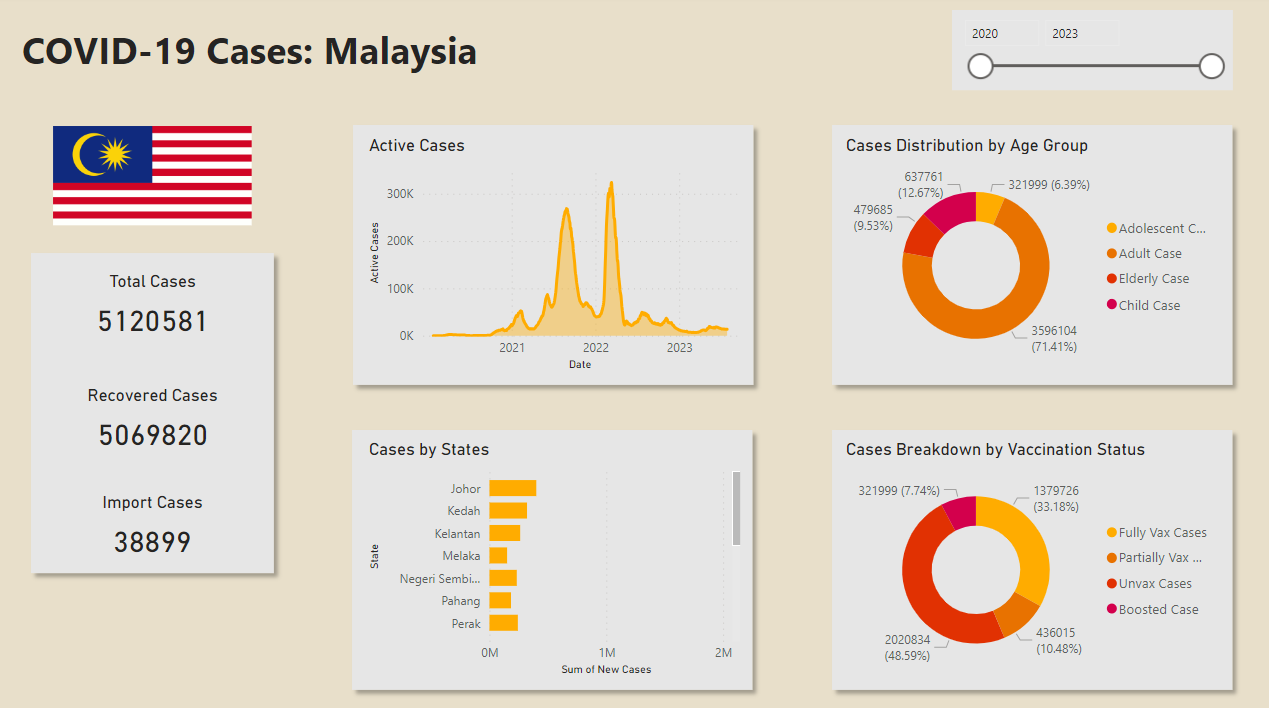

The dashboard page shown, as its layout file describes it:
{"tool":"powerbi","page":{"name":"Page 1","canvas":[1280,720],"ordinal":0},"visuals":[{"type":"shape","box":[827.4,423.7,416.7,277.1],"z":0},{"type":"shape","box":[348.9,423.7,416.7,277.1],"z":1000},{"type":"shape","box":[827.4,119.6,416.7,277.1],"z":2000},{"type":"shape","box":[349.9,119.6,416.7,277.1],"z":3000},{"type":"shape","box":[28.9,247.2,260.2,336.9],"z":4000},{"type":"slicer","title":"Year","fields":{"Values":["covid-cases.date.Variation.Date Hierarchy.Year"]},"box":[956,14,280.1,79.8],"z":5000},{"type":"card","title":"Total Cases","fields":{"Values":["Sum(covid-cases.cases_new)"]},"box":[37.9,274.1,242.2,73.8],"z":6000},{"type":"card","title":"Recovered Cases","fields":{"Values":["Sum(covid-cases.cases_recovered)"]},"box":[37.9,387.8,242.2,74.8],"z":7000},{"type":"areaChart","title":"Active Cases","fields":{"Y":["covid-cases.Active Case"],"Category":["covid-cases.date.Variation.Date Hierarchy.Year","covid-cases.date.Variation.Date Hierarchy.Quarter","covid-cases.date.Variation.Date Hierarchy.Month","covid-cases.date.Variation.Date Hierarchy.Day"]},"box":[369.8,138.6,379.8,239.3],"z":8000},{"type":"donutChart","title":"Cases Breakdown by Vaccination Status","fields":{"Y":["covid-cases.Fully Vax Cases","covid-cases.Partially Vax Cases","covid-cases.Unvax Cases","covid-cases.Boosted Case"]},"box":[845.4,441.6,379.8,240.2],"z":9000},{"type":"clusteredBarChart","title":"Cases by States","fields":{"Category":["covid-cases.State"],"Y":["Sum(covid-cases.New Cases)"]},"box":[369.8,441.6,379.8,240.2],"z":10000},{"type":"donutChart","title":"Cases Distribution by Age Group","fields":{"Y":["covid-cases.Adolescent Case","covid-cases.Adult Case","covid-cases.Elderly Case","covid-cases.Child Case"]},"box":[845.4,138.6,379.8,239.3],"z":11000},{"type":"card","title":"Import Cases","fields":{"Values":["Sum(covid-cases.cases_import)"]},"box":[37.9,494.5,242.2,74.8],"z":12000},{"type":"textbox","box":[23.9,22.9,484.5,61.8],"z":13000},{"type":"image","box":[41.9,124.6,234.3,108.7],"z":14000}]}

Visuals, with their boxes in screenshot pixels (x1, y1, x2, y2), scaled from the page's 1280x720 canvas onto the 1269x708 screenshot:
shape: {"left": 820, "top": 417, "right": 1233, "bottom": 689}
shape: {"left": 346, "top": 417, "right": 759, "bottom": 689}
shape: {"left": 820, "top": 118, "right": 1233, "bottom": 390}
shape: {"left": 347, "top": 118, "right": 760, "bottom": 390}
shape: {"left": 29, "top": 243, "right": 287, "bottom": 574}
"Year" slicer: {"left": 948, "top": 14, "right": 1225, "bottom": 92}
"Total Cases" card: {"left": 38, "top": 270, "right": 278, "bottom": 342}
"Recovered Cases" card: {"left": 38, "top": 381, "right": 278, "bottom": 455}
"Active Cases" areaChart: {"left": 367, "top": 136, "right": 743, "bottom": 372}
"Cases Breakdown by Vaccination Status" donutChart: {"left": 838, "top": 434, "right": 1215, "bottom": 670}
"Cases by States" clusteredBarChart: {"left": 367, "top": 434, "right": 743, "bottom": 670}
"Cases Distribution by Age Group" donutChart: {"left": 838, "top": 136, "right": 1215, "bottom": 372}
"Import Cases" card: {"left": 38, "top": 486, "right": 278, "bottom": 560}
textbox: {"left": 24, "top": 23, "right": 504, "bottom": 83}
image: {"left": 42, "top": 123, "right": 274, "bottom": 229}
